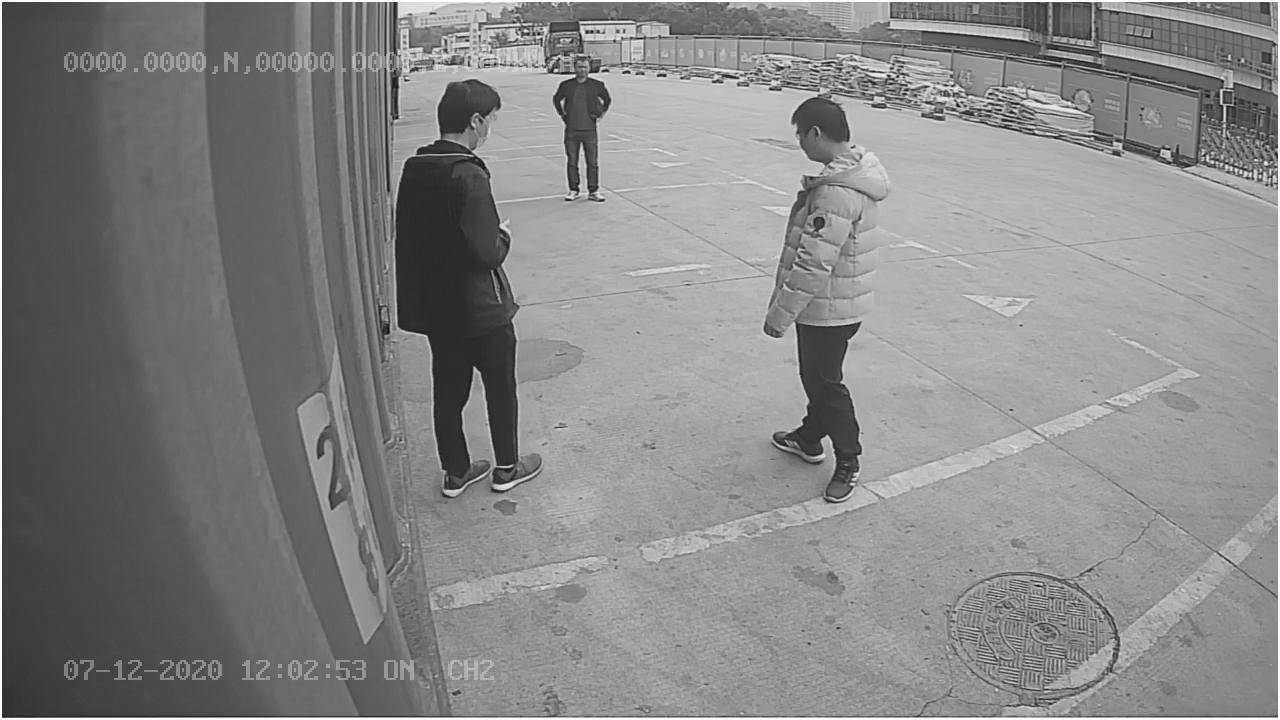person: (763, 96, 898, 509)
